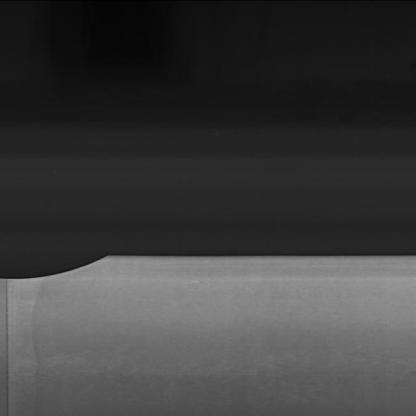crescent_gap: (1, 246, 119, 287)
